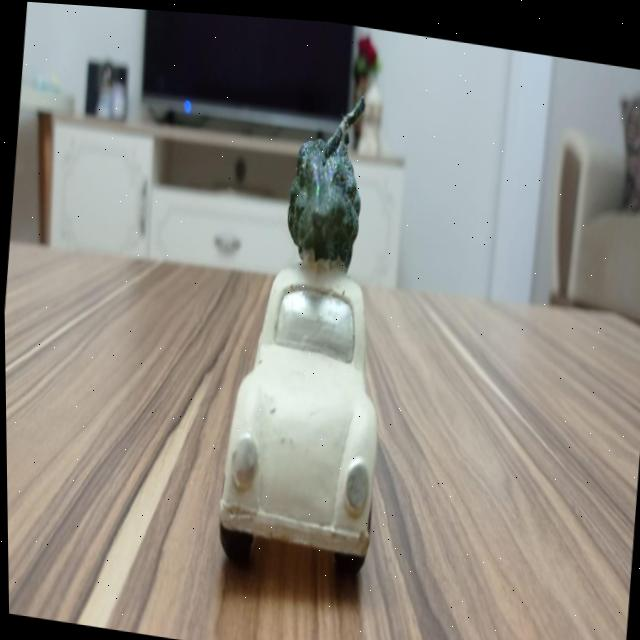vehicle: (216, 256, 392, 581)
